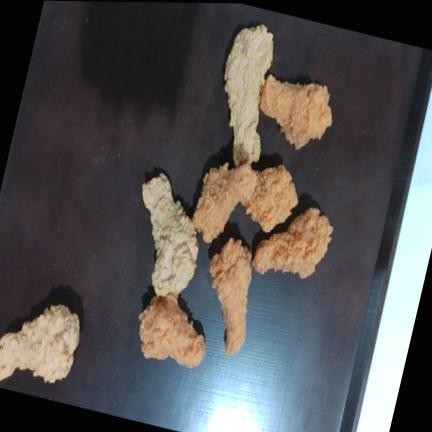chicken: (143, 174, 199, 296), (225, 25, 273, 166), (0, 305, 80, 383), (253, 208, 333, 278), (260, 75, 332, 149), (193, 163, 257, 242), (139, 294, 206, 368), (210, 238, 251, 355), (244, 165, 298, 233)
